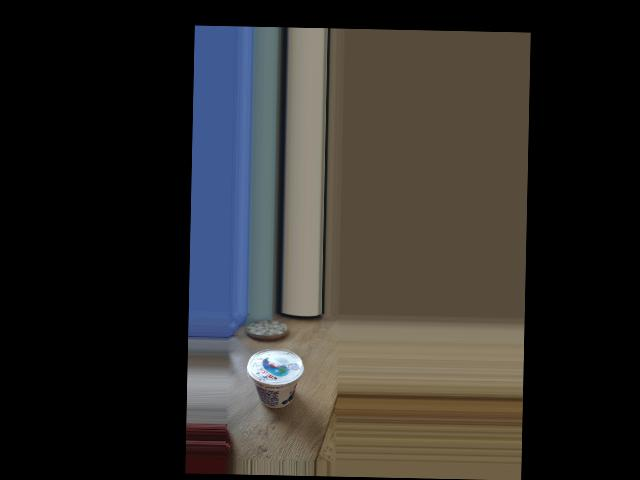cotage: (255, 346, 305, 418)
